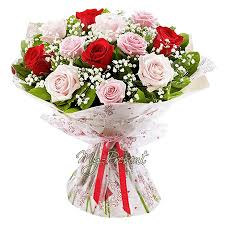lale: (135, 52, 177, 95), (43, 64, 80, 106), (80, 39, 121, 74), (19, 45, 57, 80), (93, 71, 128, 106), (151, 26, 185, 56), (91, 13, 124, 42), (56, 32, 86, 60), (117, 32, 149, 57), (128, 8, 159, 32)
